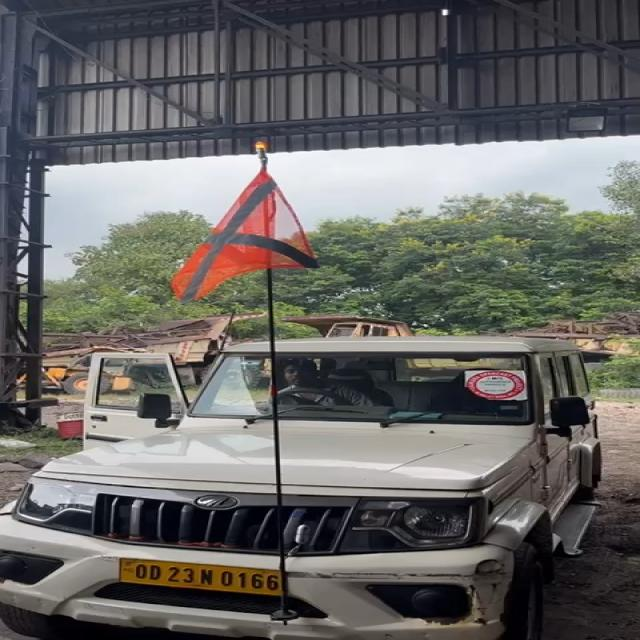light_vehicle: (10, 339, 608, 640)
